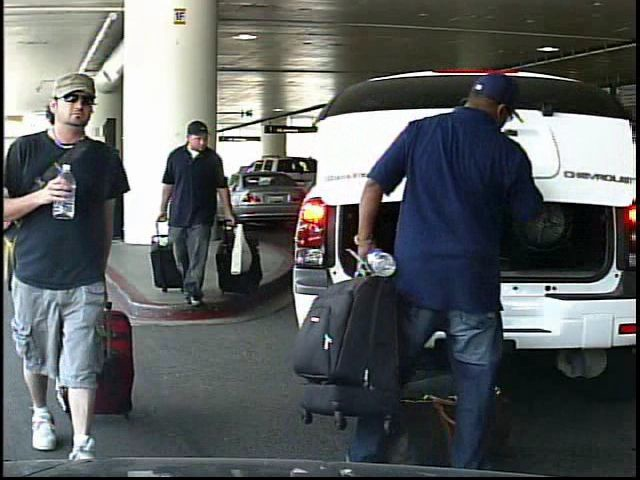person: (350, 74, 538, 475), (4, 66, 160, 475), (156, 114, 253, 309)
